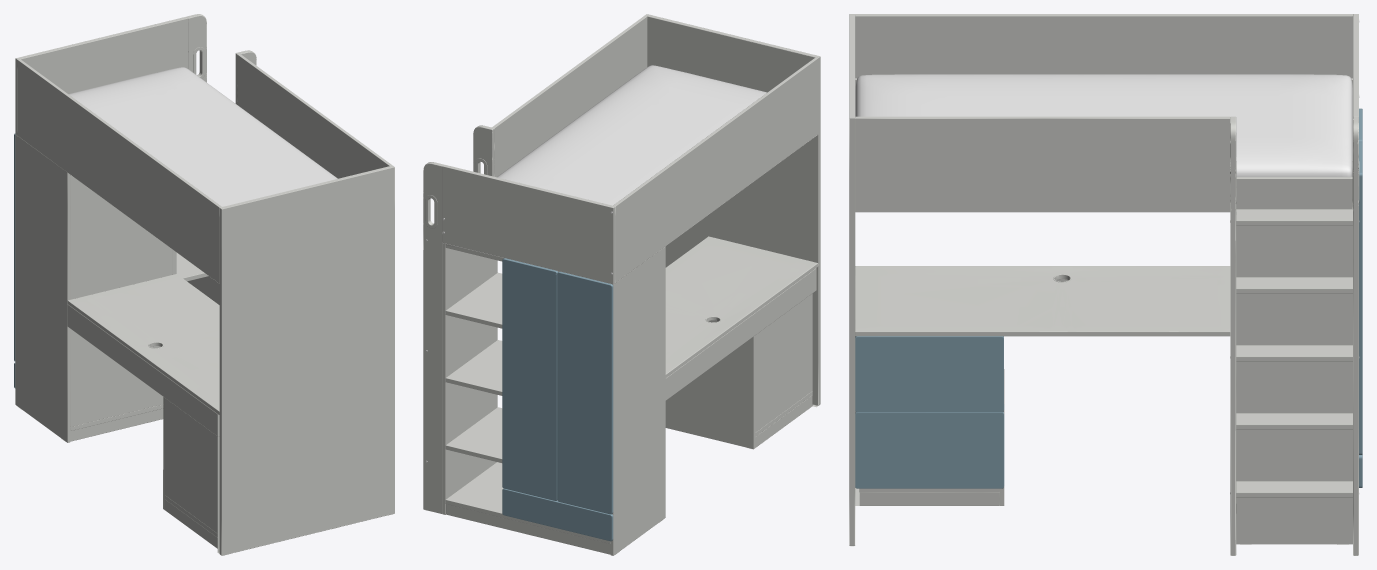
Rendered from smastad_ozko_na_antresoli_89542023.glb.
The picture shows the model from 3 angles, left to right: view 1: azimuth 30°, elevation 25°; view 2: azimuth 150°, elevation 25°; view 3: azimuth 270°, elevation 25°; orthographic projection. The views are drawn at different scales.
Visible parts, largest first — view 1: smastad_ozko_na_antresoli_89542023; view 2: smastad_ozko_na_antresoli_89542023; view 3: smastad_ozko_na_antresoli_89542023.
Part boxes in pixels (x1=…): smastad_ozko_na_antresoli_89542023: x1=14, y1=14, x2=394, y2=555; smastad_ozko_na_antresoli_89542023: x1=423, y1=14, x2=820, y2=555; smastad_ozko_na_antresoli_89542023: x1=849, y1=14, x2=1362, y2=555.
Size of the model in its own units: 1.04 by 1.82 by 1.98.
